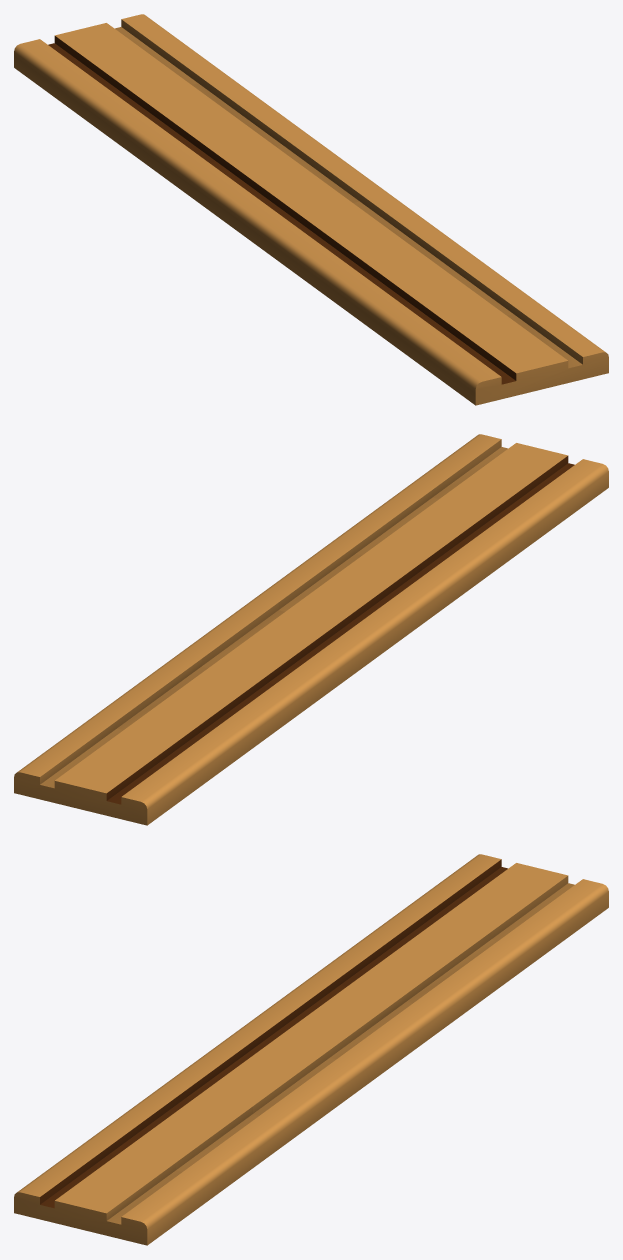
The model's file is Station.fbx.
3 renders of one model, top to bottom at view 1: azimuth 30°, elevation 25°; view 2: azimuth 150°, elevation 25°; view 3: azimuth 330°, elevation 25°, orthographic.
Visible parts, largest first — view 1: Station; view 2: Station; view 3: Station.
Boxes of the visible parts, box(x1,y1,x2,y2) form: Station: box(14, 14, 608, 405); Station: box(14, 434, 608, 825); Station: box(14, 854, 608, 1245).
Bounding box in the file's own units: 1 × 0.16 × 6.
